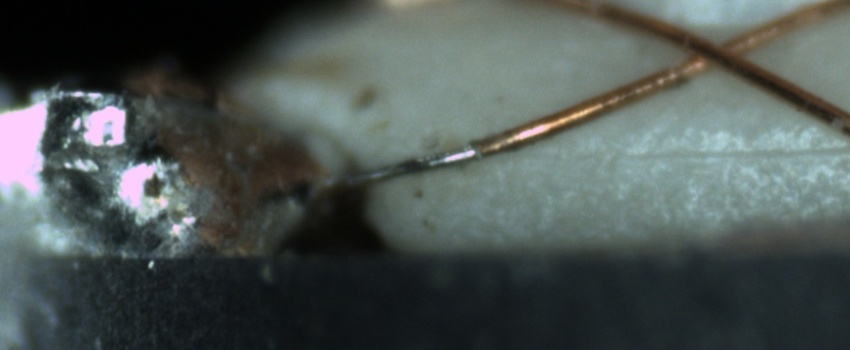CL: (666, 21, 761, 80)
DL: (596, 124, 850, 189)
TS: (322, 144, 476, 192)
TTCW: (343, 117, 533, 193)
